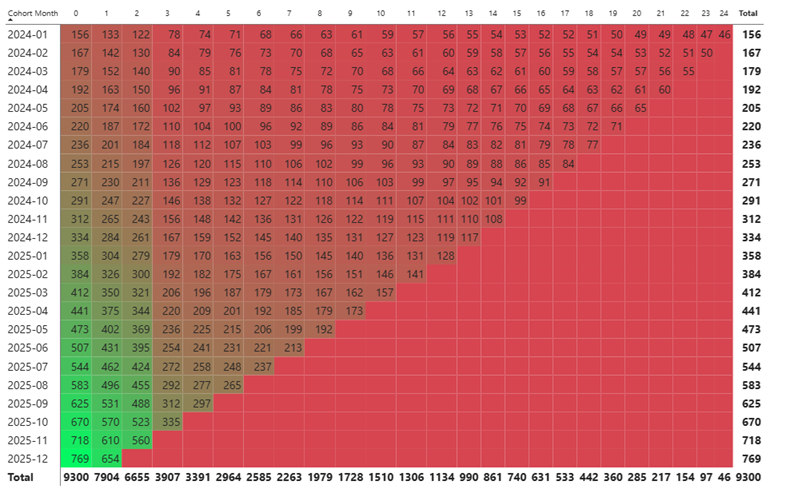

The dashboard page shown, as its layout file describes it:
{"tool":"powerbi","page":{"name":"Customer Cohort","canvas":[1920,1080],"ordinal":0},"visuals":[{"type":"pivotTable","fields":{"Rows":["transactions.Cohort Month Label"],"Columns":["transactions.Months Since Cohort"],"Values":["Count(transactions.Customer_ID)"]},"box":[0,0,1920.4,1080.4],"z":0}]}

Visuals, with their boxes on the page's 1920x1080 design canvas (x1, y1, x2, y2). These are canvas units, not pixel positions in the 798x493 screenshot, which may show the page scaled, cropped or inside an application window:
pivotTable - transactions.Cohort Month Label x transactions.Months Since Cohort: [0, 0, 1920, 1080]
